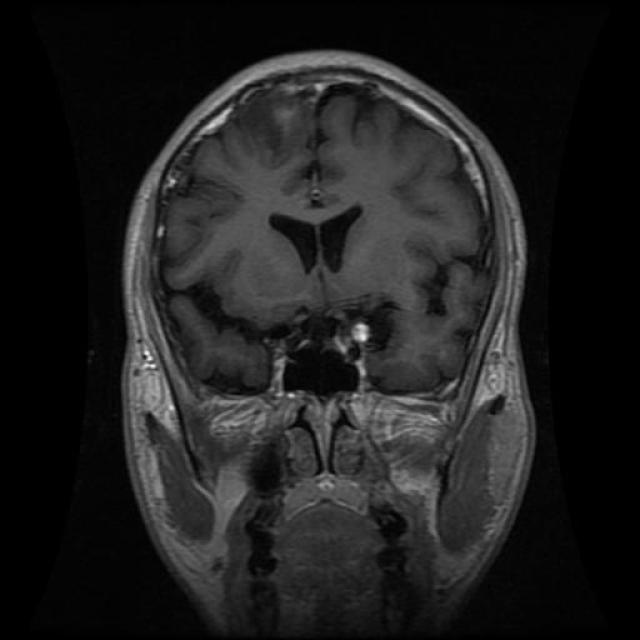glioma: (271, 204, 371, 274)
